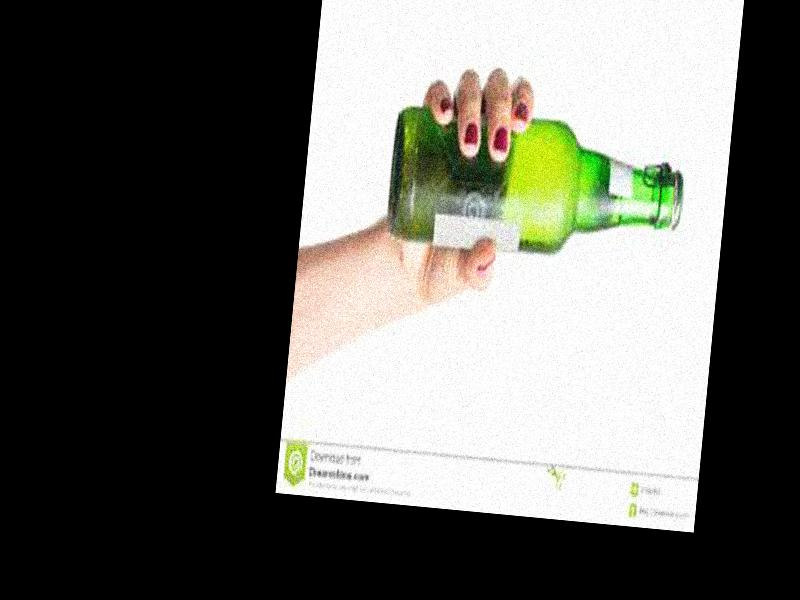Beer: (384, 105, 690, 272)
